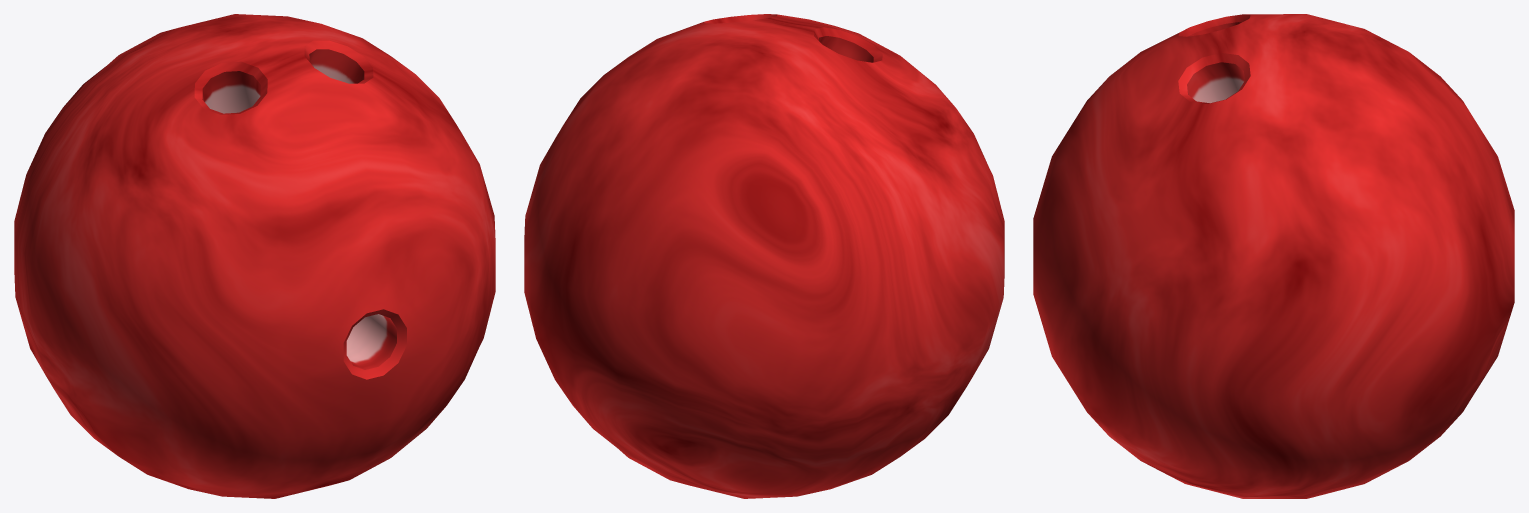
The model's file is bowling.glb.
3 views of the same model, side by side, from view 1: azimuth 30°, elevation 25°; view 2: azimuth 150°, elevation 25°; view 3: azimuth 270°, elevation 25° (orthographic).
Visible parts, largest first — view 1: BowlingV2; view 2: BowlingV2; view 3: BowlingV2.
Part boxes in pixels (box(x1,y1,x2,y2)): BowlingV2: box(14, 14, 495, 498); BowlingV2: box(524, 14, 1004, 498); BowlingV2: box(1033, 14, 1514, 498).
Bounding box in the file's own units: 1.7 × 1.71 × 1.71.
1 material, 1 textured.
